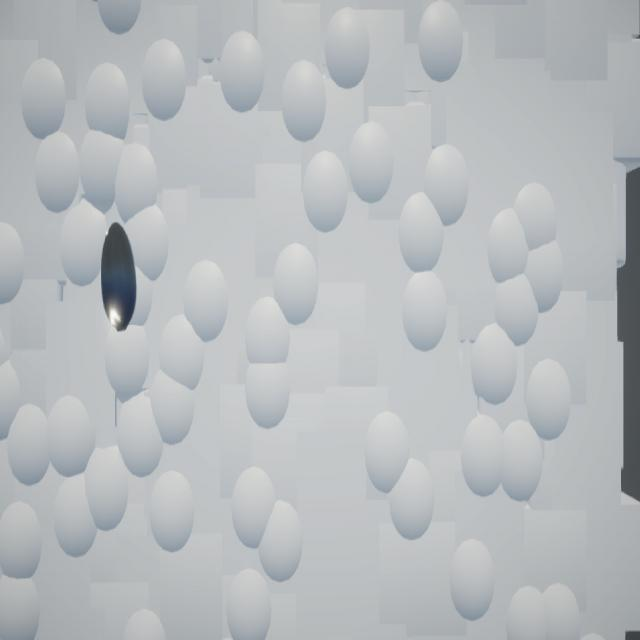top_spoon: (102, 223, 138, 333)
